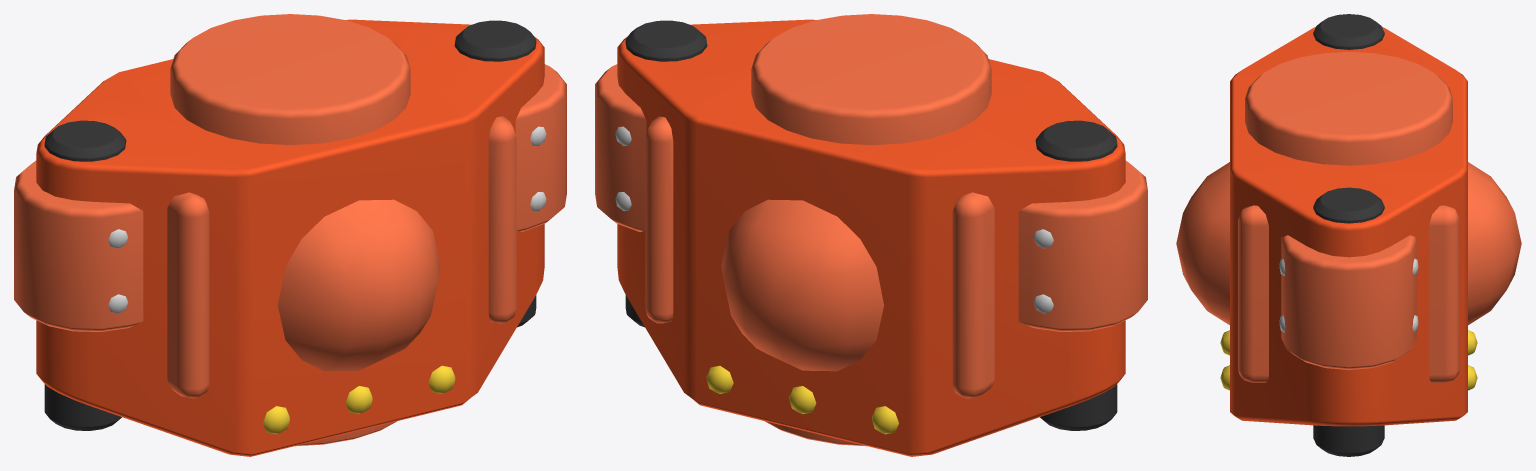
File: obstacle_14_002.fbx
The picture shows the model from 3 angles, left to right: view 1: azimuth 30°, elevation 25°; view 2: azimuth 150°, elevation 25°; view 3: azimuth 270°, elevation 25°; orthographic projection. The views are drawn at different scales.
Visible parts, largest first — view 1: obstacle_14_002; view 2: obstacle_14_002; view 3: obstacle_14_002.
Part boxes in pixels (x1,y1,x2,y2): obstacle_14_002: [14, 14, 566, 456]; obstacle_14_002: [595, 14, 1147, 456]; obstacle_14_002: [1176, 14, 1521, 456].
Size of the model in its own units: 789 by 510 by 468.
